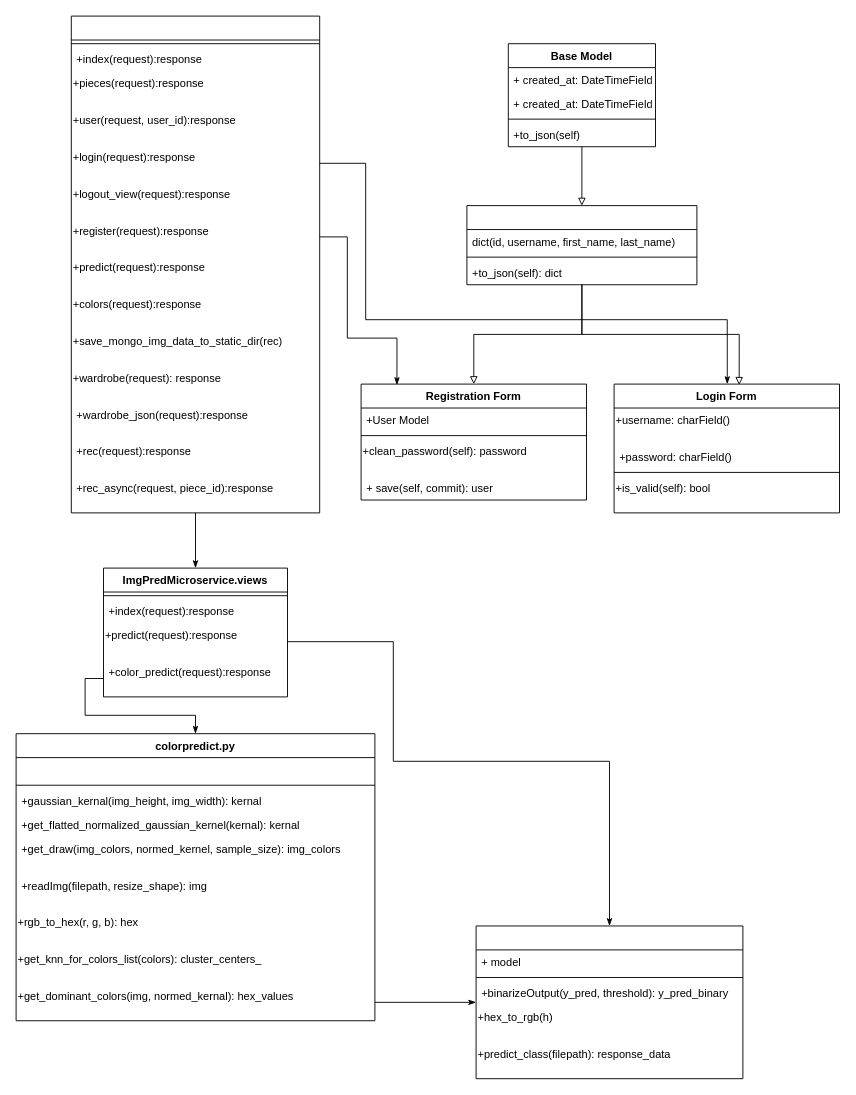
This 856x1095 diagram has some shape labels left out. Here are the shapes that lost their labels. From the top down, the box of each, then its label:
(70, 15, 320, 513): fashionfinderapp.views
(466, 205, 697, 285): User Model
(475, 925, 743, 1079): classpredict.py
